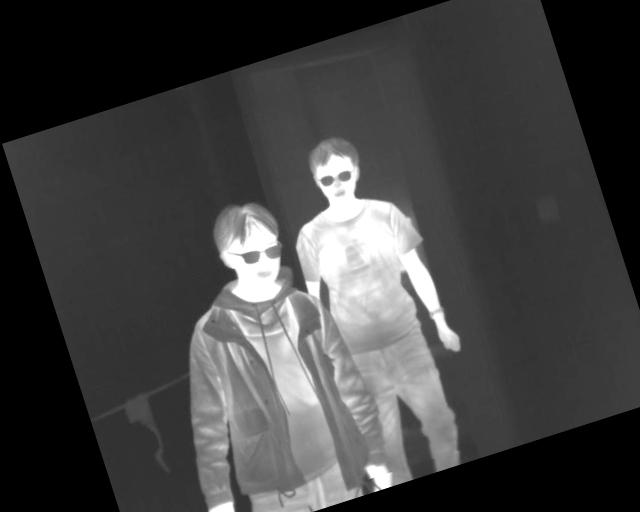face: (204, 191, 293, 296), (301, 130, 370, 212)
